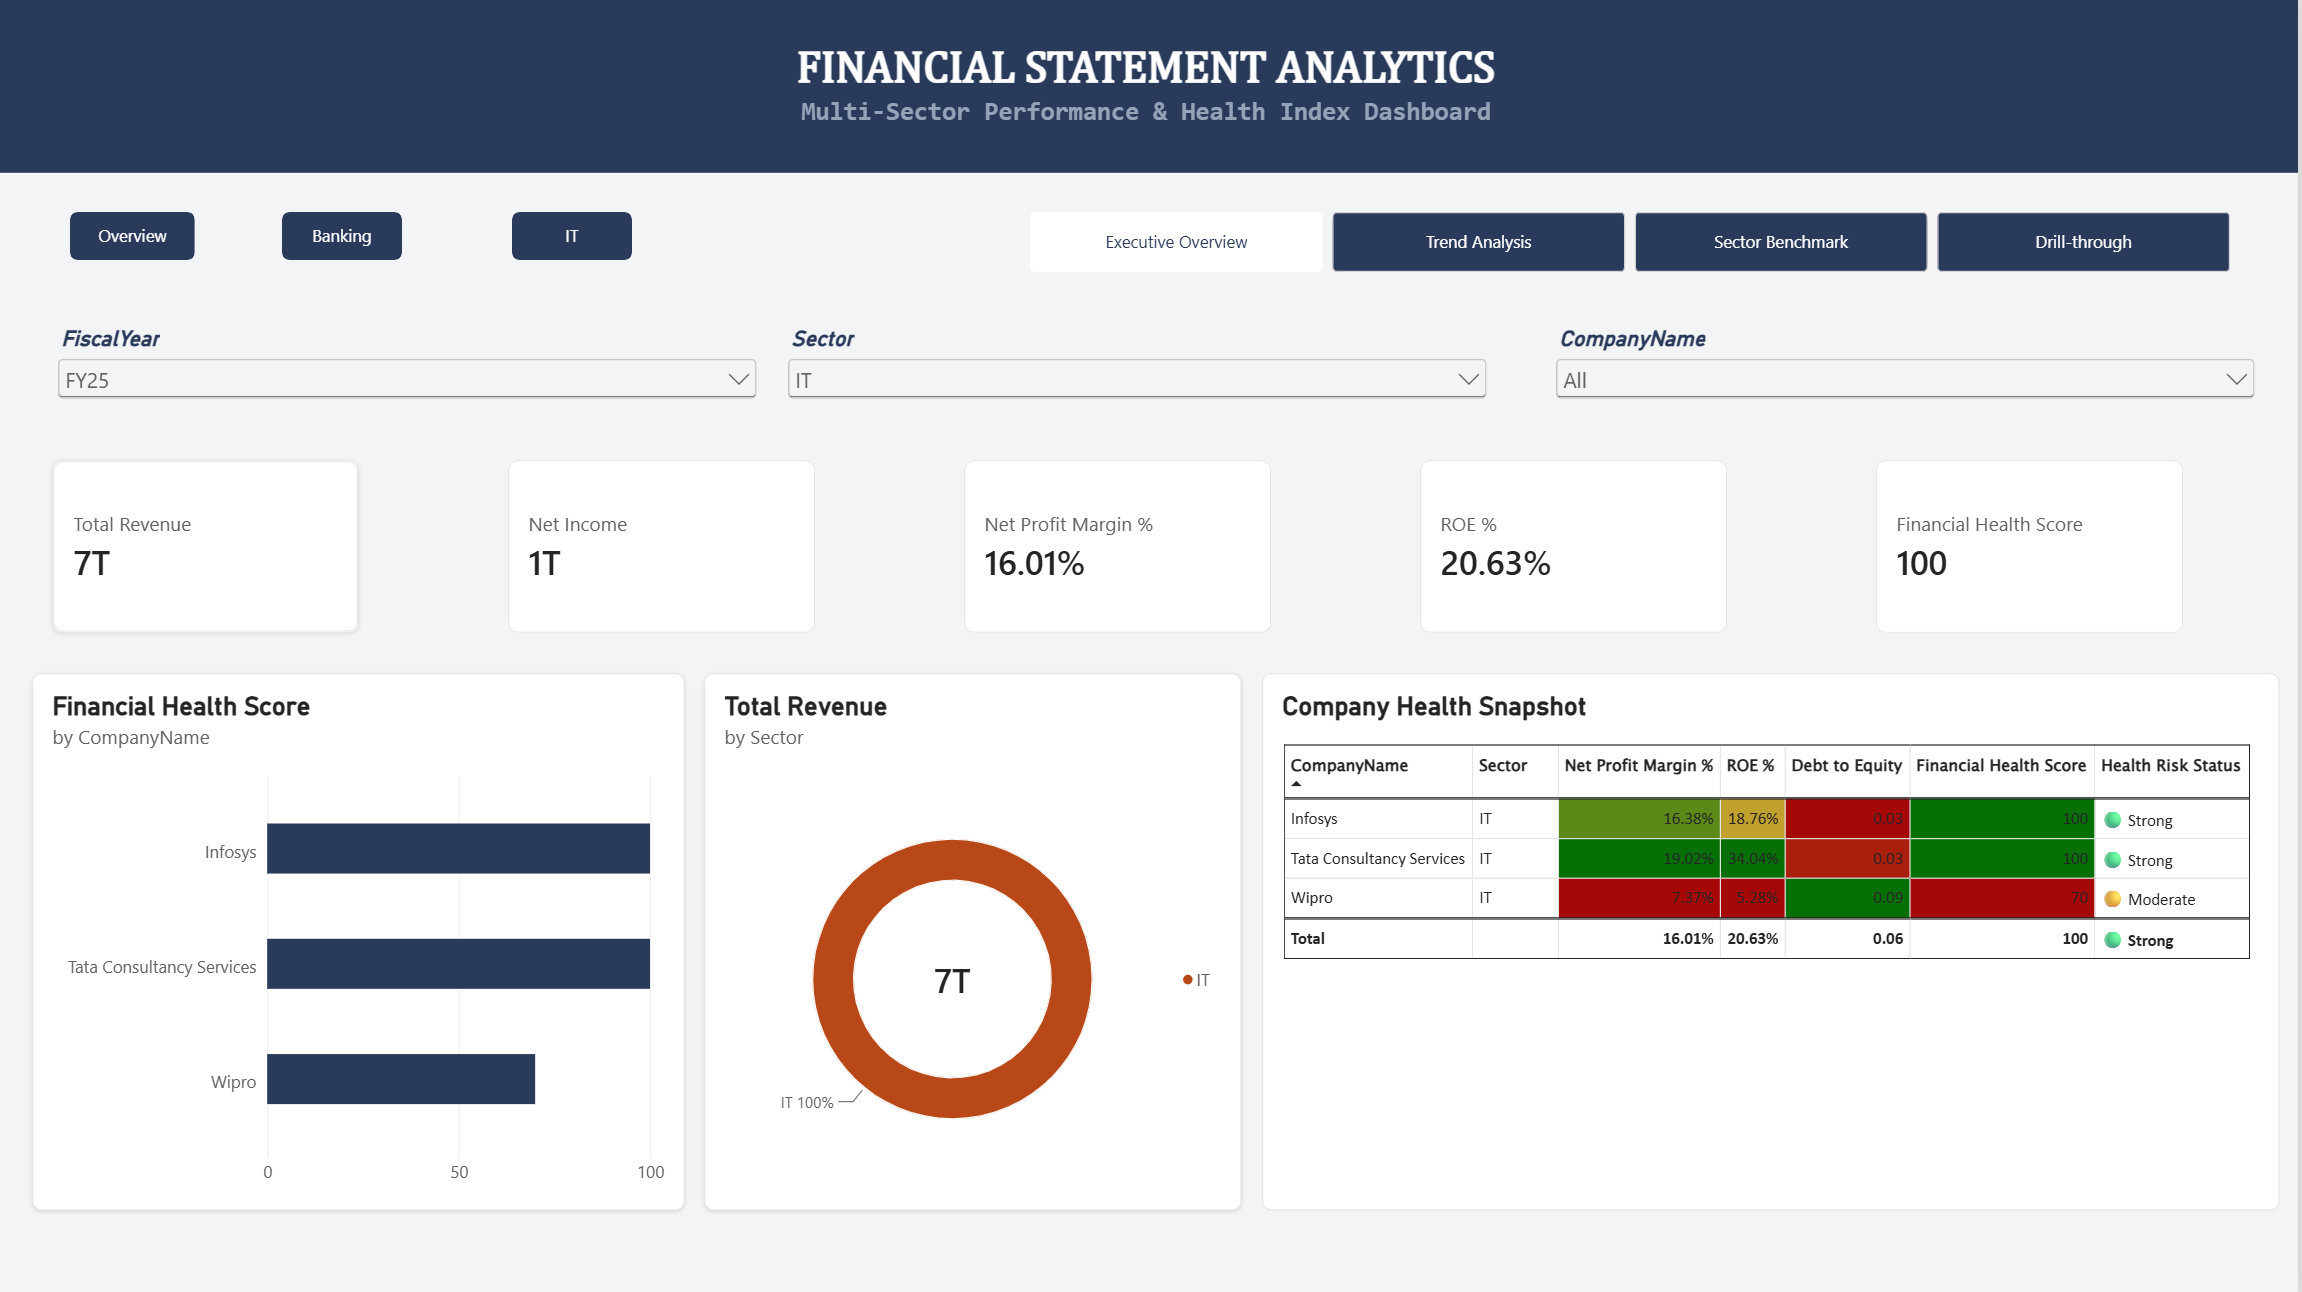

This screenshot's page, from the dashboard's own definition file:
{"tool":"powerbi","page":{"name":"Executive Overview","canvas":[1920,1080],"ordinal":0},"visuals":[{"type":"shape","box":[0,0,1920,144],"z":0},{"type":"textbox","box":[0,16,1920,128],"z":1000},{"type":"slicer","fields":{"Values":["Dim_Date.FiscalYear"]},"box":[48,272,592,64],"z":2000},{"type":"slicer","fields":{"Values":["Dim_Company.Sector"]},"box":[656,272,592,64],"z":3000},{"type":"slicer","fields":{"Values":["Dim_Company.CompanyName"]},"box":[1296,272,592,64],"z":4000},{"type":"cardVisual","fields":{"Data":["_Measures.Net Income"]},"box":[428,384,256,144],"z":5000},{"type":"cardVisual","fields":{"Data":["_Measures.ROE %"]},"box":[1188,384,256,144],"z":6000},{"type":"cardVisual","fields":{"Data":["_Measures.Financial Health Score"]},"box":[1568,384,256,144],"z":7000},{"type":"cardVisual","fields":{"Data":["_Measures.Total Revenue"]},"box":[48,384,256,144],"z":8000},{"type":"cardVisual","fields":{"Data":["_Measures.Net Profit Margin %"]},"box":[808,384,256,144],"z":9000},{"type":"donutChart","fields":{"Category":["Dim_Company.Sector"],"Y":["_Measures.Total Revenue"]},"box":[592,560,448,448],"z":10000},{"type":"tableEx","title":"Company Health Snapshot","fields":{"Values":["Dim_Company.CompanyName","Dim_Company.Sector","_Measures.Net Profit Margin %","_Measures.ROE %","_Measures.Debt to Equity","_Measures.Financial Health Score","_Measures.Health Risk Status"]},"box":[1056,560,848,448],"z":11000},{"type":"clusteredBarChart","fields":{"Category":["Dim_Company.CompanyName"],"Y":["_Measures.Financial Health Score"]},"box":[32,560,544,448],"z":12000},{"type":"actionButton","title":"Overview","box":[64,176,104,40],"z":13000},{"type":"actionButton","box":[432,176,100,40],"z":14000},{"type":"actionButton","box":[240,176,100,40],"z":15000},{"type":"pageNavigator","box":[864,176,1000,50],"z":16000}]}

Visuals, with their boxes in screenshot pixels (x1, y1, x2, y2), scaled from the page's 1920x1080 canvas onto the 2302x1292 screenshot:
shape: crop(0, 0, 2301, 172)
textbox: crop(0, 19, 2301, 172)
slicer - Dim_Date.FiscalYear: crop(58, 325, 767, 402)
slicer - Dim_Company.Sector: crop(787, 325, 1496, 402)
slicer - Dim_Company.CompanyName: crop(1554, 325, 2264, 402)
cardVisual - _Measures.Net Income: crop(513, 459, 820, 632)
cardVisual - _Measures.ROE %: crop(1424, 459, 1731, 632)
cardVisual - _Measures.Financial Health Score: crop(1880, 459, 2187, 632)
cardVisual - _Measures.Total Revenue: crop(58, 459, 364, 632)
cardVisual - _Measures.Net Profit Margin %: crop(969, 459, 1276, 632)
donutChart - Dim_Company.Sector x _Measures.Total Revenue: crop(710, 670, 1247, 1206)
"Company Health Snapshot" tableEx: crop(1266, 670, 2283, 1206)
clusteredBarChart - Dim_Company.CompanyName x _Measures.Financial Health Score: crop(38, 670, 691, 1206)
"Overview" actionButton: crop(77, 211, 201, 258)
actionButton: crop(518, 211, 638, 258)
actionButton: crop(288, 211, 408, 258)
pageNavigator: crop(1036, 211, 2235, 270)
